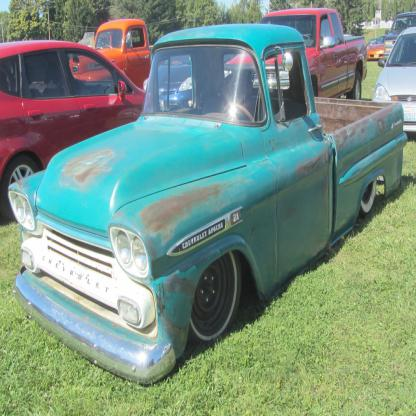Car: (0, 41, 161, 224), (143, 54, 235, 114), (372, 27, 416, 132), (366, 34, 388, 60)
Truck: (0, 30, 403, 380)
